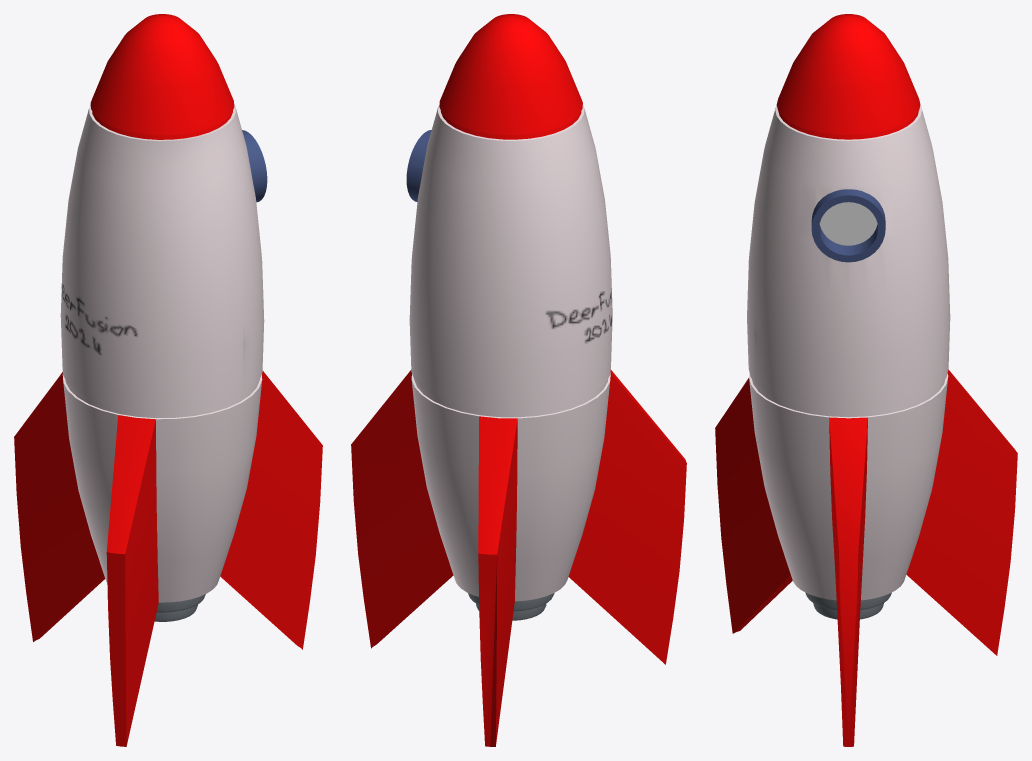
The model's file is uzay_gemisi.fbx.
3 views of the same model, side by side, from view 1: azimuth 30°, elevation 25°; view 2: azimuth 150°, elevation 25°; view 3: azimuth 270°, elevation 25° (orthographic).
Visible parts, largest first — view 1: Sphere.013; view 2: Sphere.013; view 3: Sphere.013.
Boxes of the visible parts, x1=… form: Sphere.013: x1=14, y1=14, x2=322, y2=746; Sphere.013: x1=351, y1=14, x2=686, y2=746; Sphere.013: x1=715, y1=14, x2=1017, y2=746.
Bounding box in the file's own units: 75.22 × 175 × 72.59.
